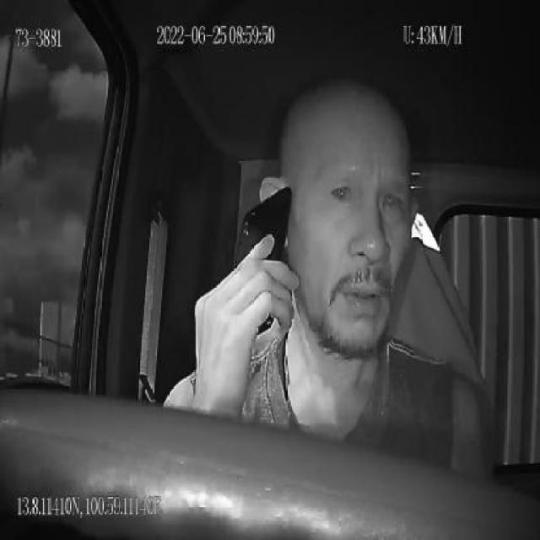phone: (234, 184, 292, 329)
